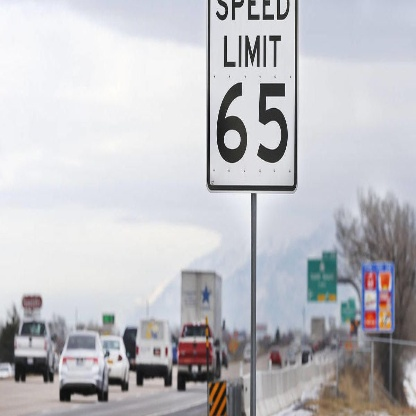limit1: (203, 1, 300, 195)
